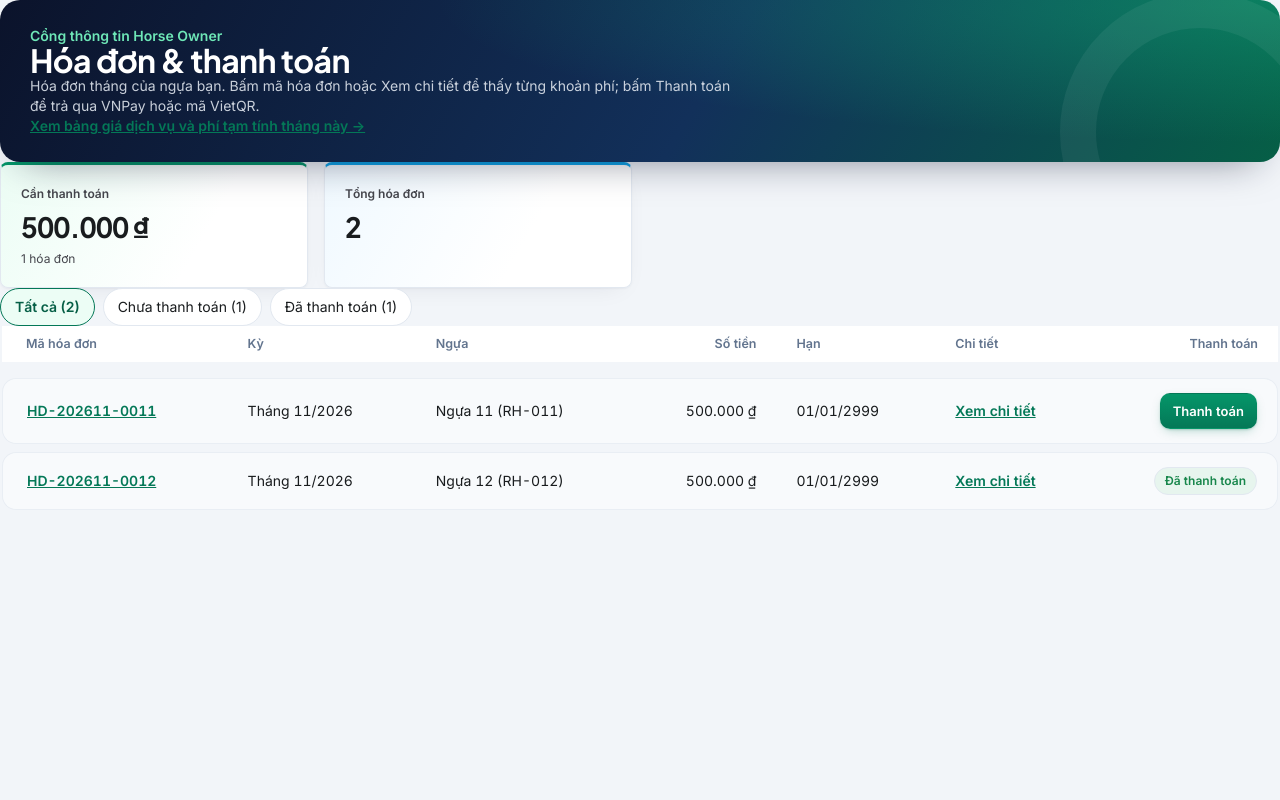
Test: DEC-016 owner invoice list: pay popup › shows the load error with a retry on every tab and offers no payment when the invoice cannot be loaded
Click the button with aria-label "Thanh toán hóa đơn HD-202611-0011".
click(1208, 411)  # box [1160, 393, 1257, 429]
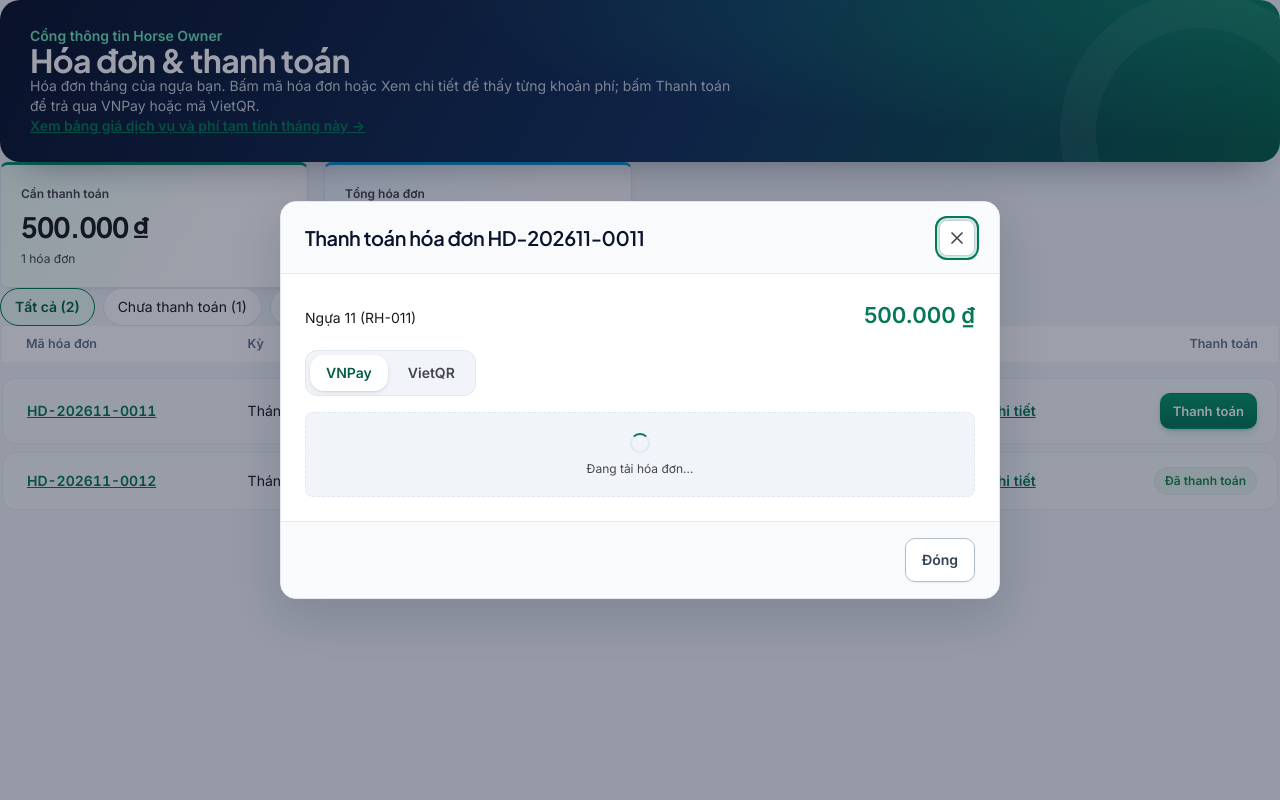
Click the tab "VietQR".
click(431, 373)  # box [392, 355, 471, 391]
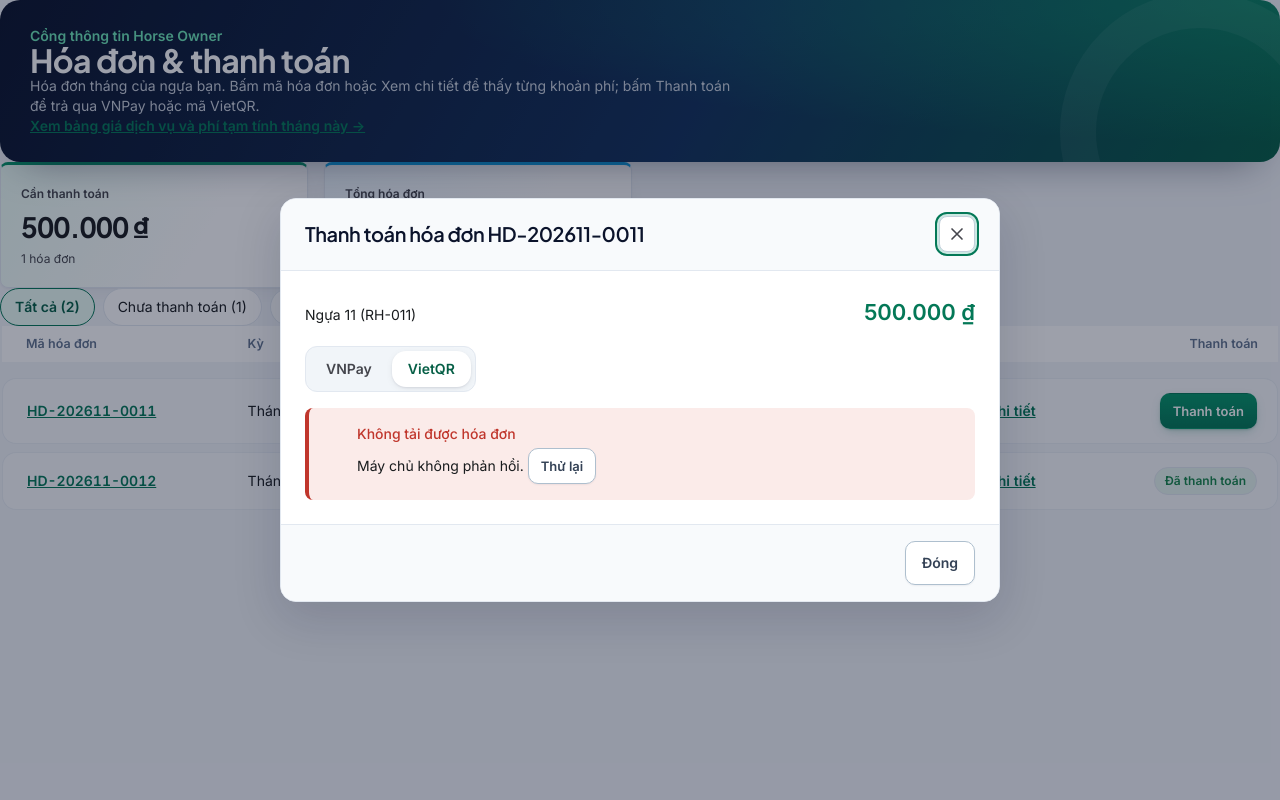
Expected: the text "Không tải được hóa đơn" is shown, [357, 425, 516, 442]
Expected: the button "Thử lại" is shown, [528, 448, 596, 484]
